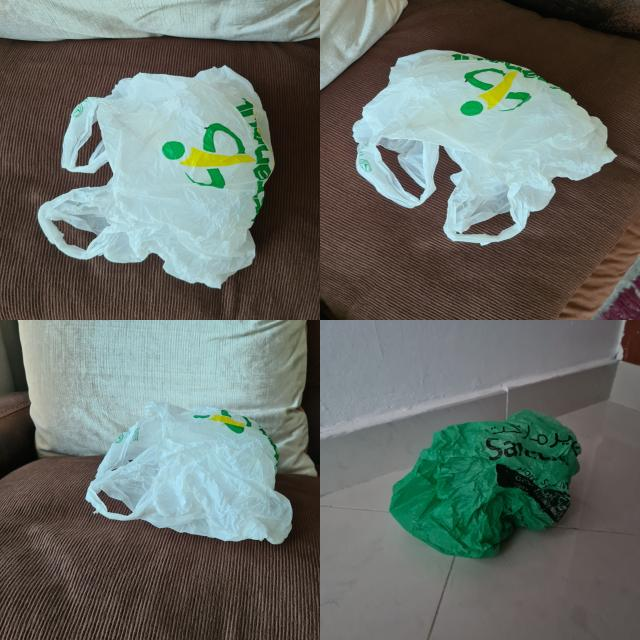Single-layer Plastic: (38, 66, 275, 288), (352, 50, 615, 245), (86, 401, 292, 544), (390, 410, 581, 558)
